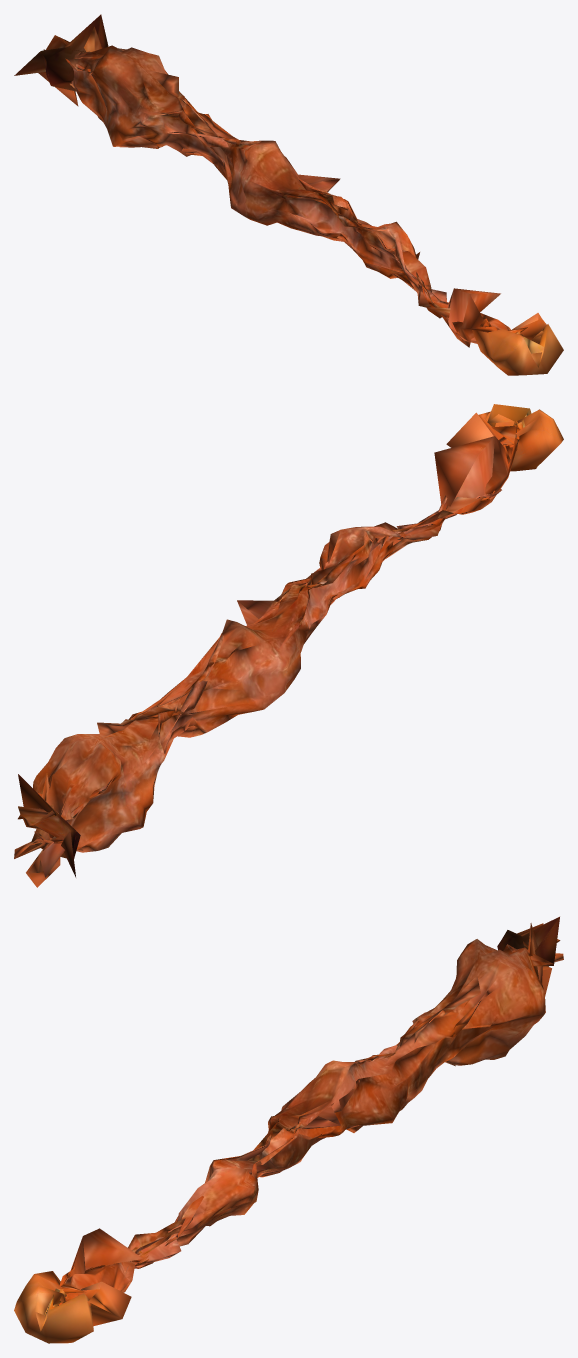
File: Put_Carrot.obj
3 views of the same model, one above another, from view 1: azimuth 30°, elevation 25°; view 2: azimuth 150°, elevation 25°; view 3: azimuth 330°, elevation 25° (orthographic). The views are drawn at different scales.
Visible parts, largest first — view 1: Put_Carrot_carrot; view 2: Put_Carrot_carrot; view 3: Put_Carrot_carrot.
Part boxes in pixels (x1,y1,x2,y2): Put_Carrot_carrot: [14, 14, 563, 375]; Put_Carrot_carrot: [14, 404, 563, 887]; Put_Carrot_carrot: [14, 916, 563, 1343].
Size of the model in its own units: 0.2793 by 0.2446 by 2.09.
Materials: 1 (1 with a texture image).
